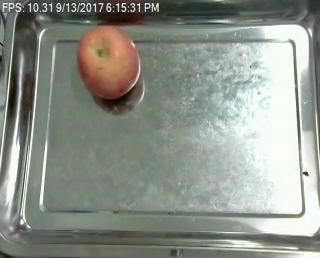apple: (77, 27, 141, 99)
